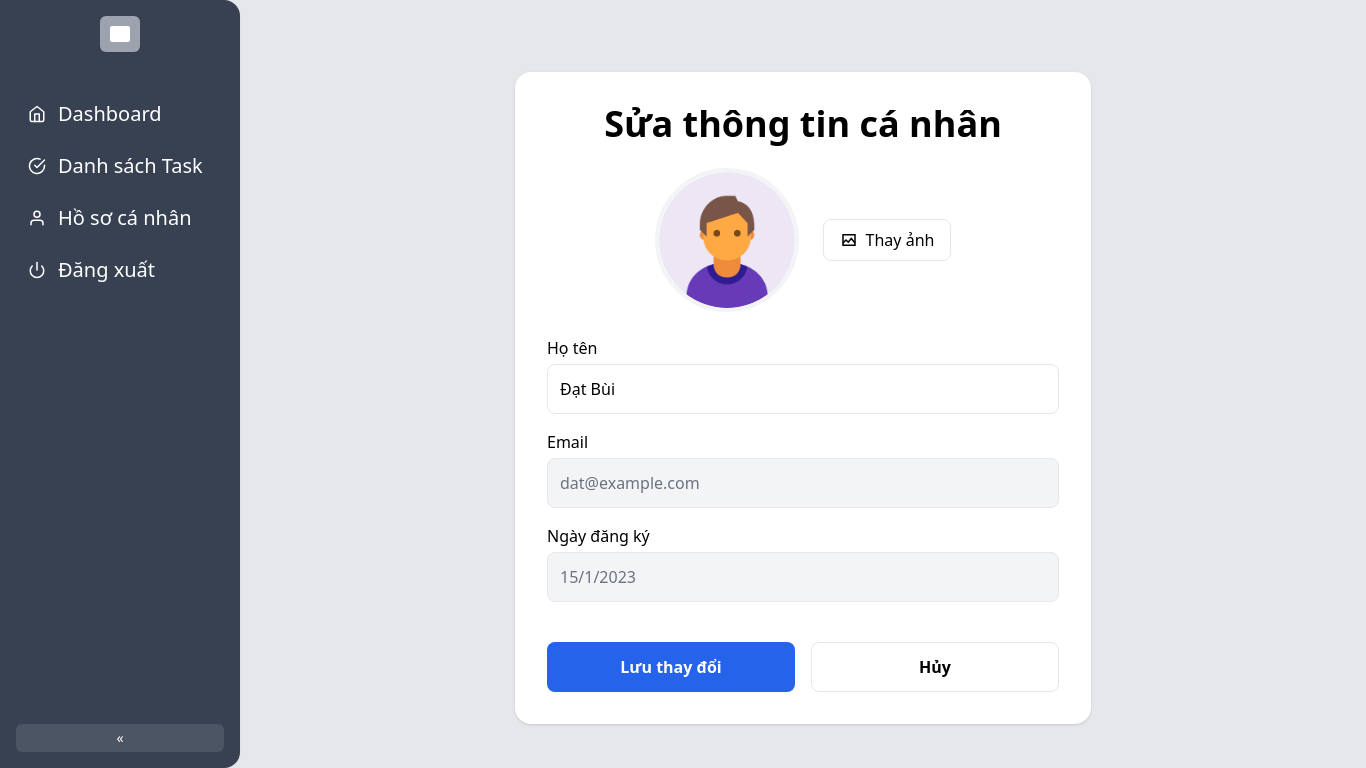
EditProfilePage › Lưu thay đổi thất bại: hiển thị lỗi từ Supabase
Expected: the heading "Sửa thông tin cá nhân" is shown, [604,99,1002,148]
Click the button "Lưu thay đổi": (671, 667) [547,642,795,692]
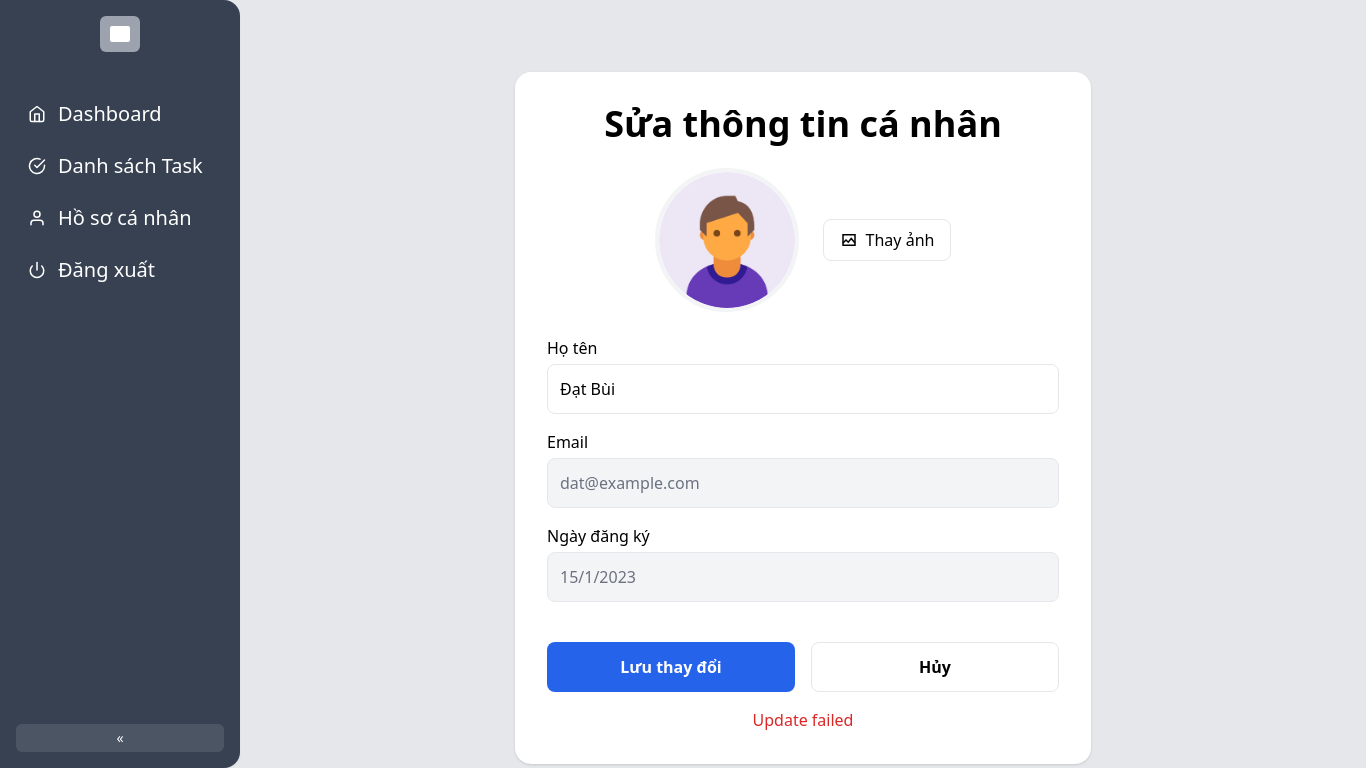
Expected: the text "Update failed" is shown, [752,709,853,731]
